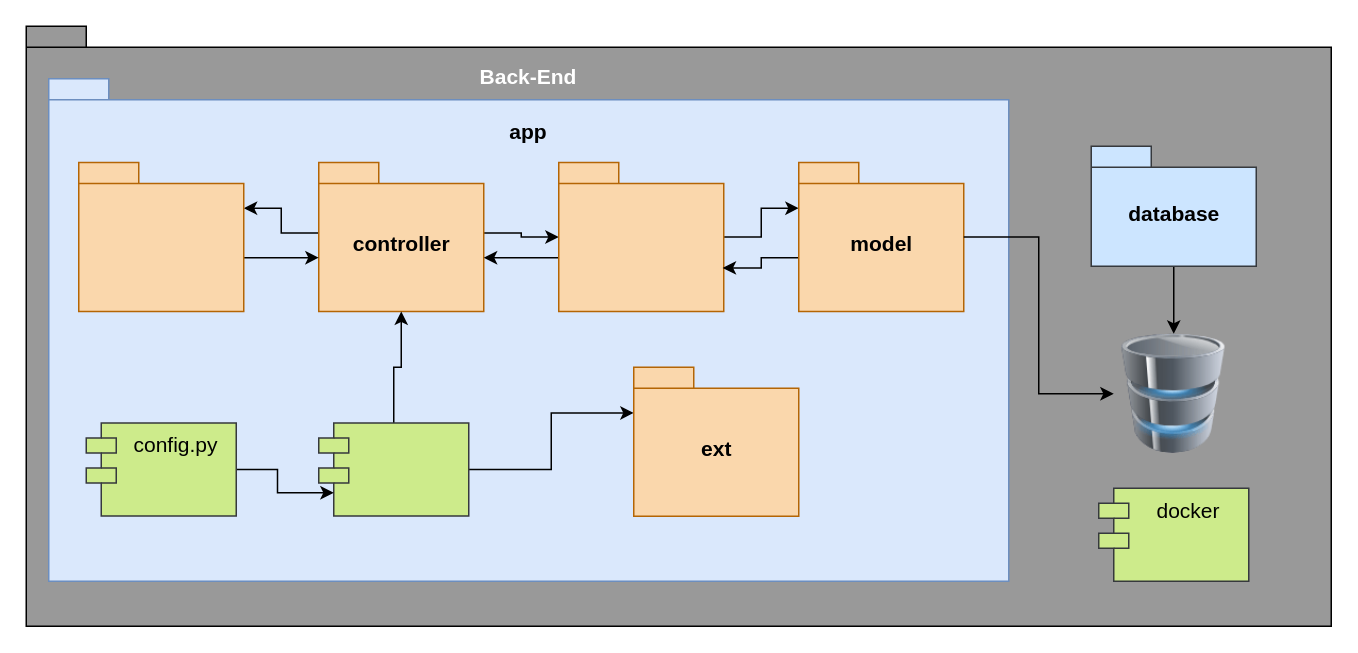
Image size: 1358x653. Some labels were removed from this diagram. Each missing label, with the box of its shape:
app.py: (317, 422, 469, 516)
schemas: (77, 161, 244, 311)
services: (557, 161, 724, 311)
